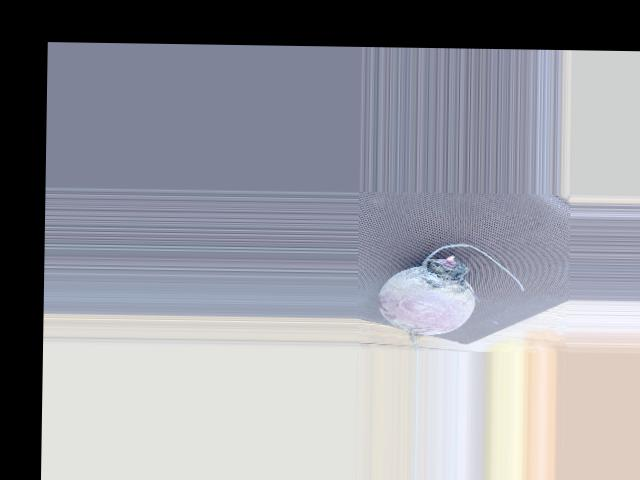beet: (376, 242, 524, 352)
